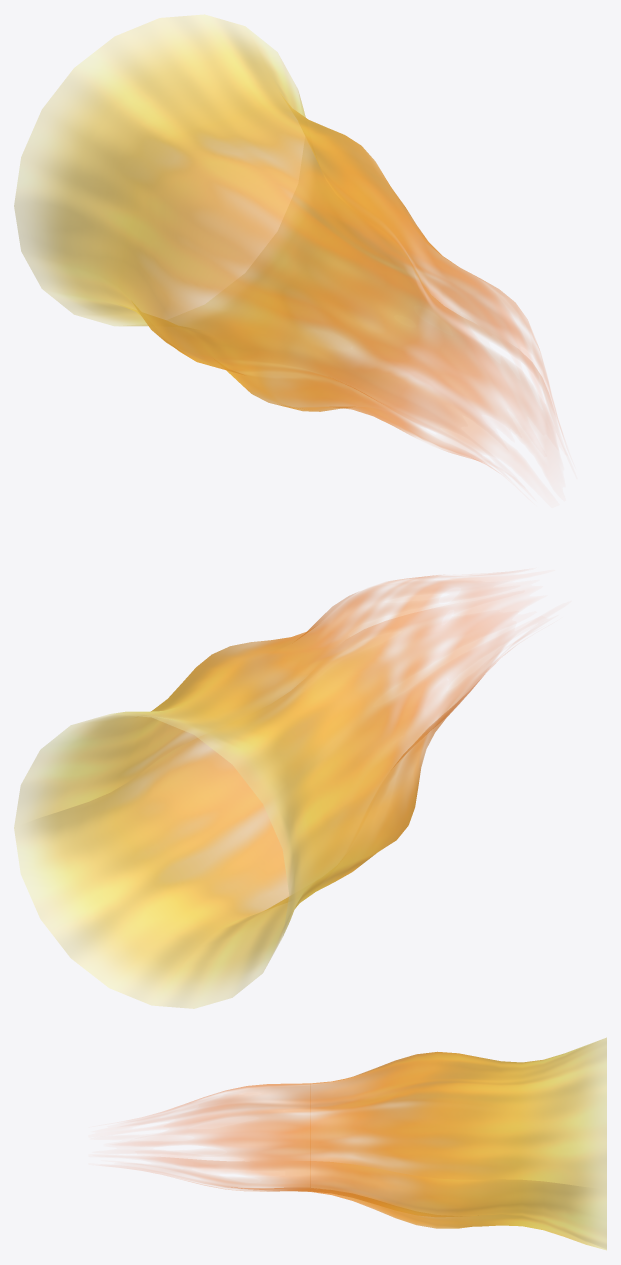
Rendered from flame_outer.glb.
The picture shows the model from 3 angles, top to bottom: view 1: azimuth 30°, elevation 25°; view 2: azimuth 150°, elevation 25°; view 3: azimuth 270°, elevation 25°; orthographic projection. The views are drawn at different scales.
Visible parts, largest first — view 1: SkyRally_FlameOuter; view 2: SkyRally_FlameOuter; view 3: SkyRally_FlameOuter.
Boxes of the visible parts, x1,y1,x2,y2 form: SkyRally_FlameOuter: [14, 14, 555, 467]; SkyRally_FlameOuter: [14, 575, 514, 1008]; SkyRally_FlameOuter: [132, 1037, 606, 1250].
Size of the model in its own units: 1.74 by 1.74 by 4.8.
1 material, 1 textured.
